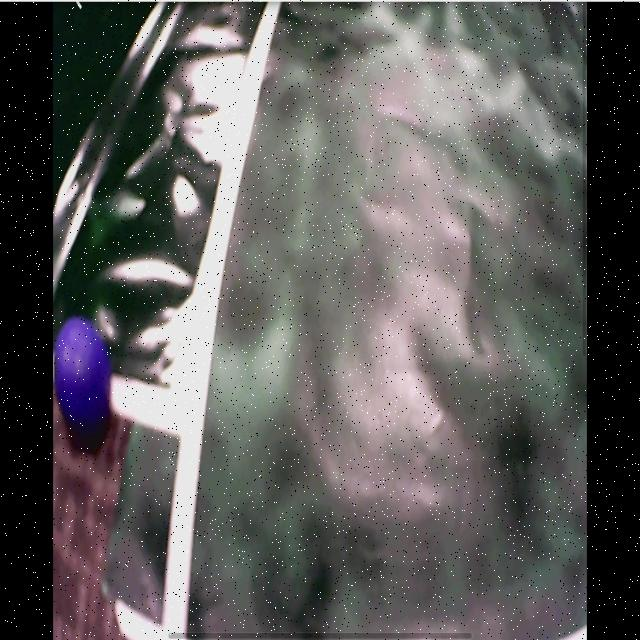ball: (56, 321, 111, 427)
